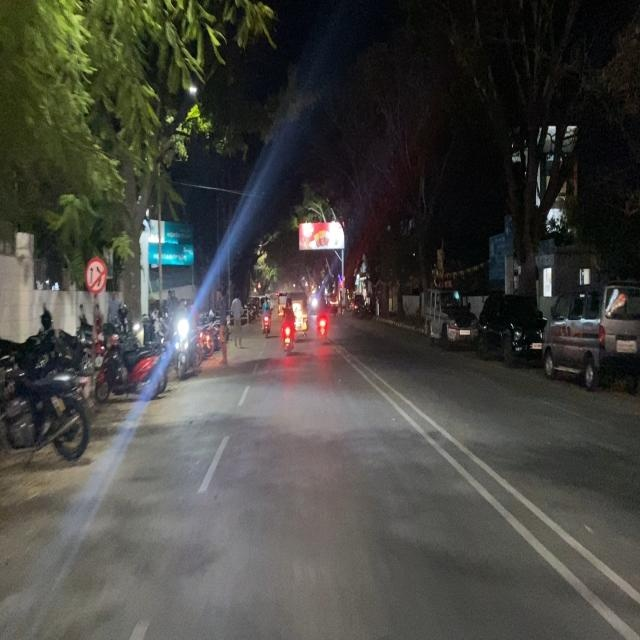bien_nguy_hiem: (83, 257, 107, 294)
